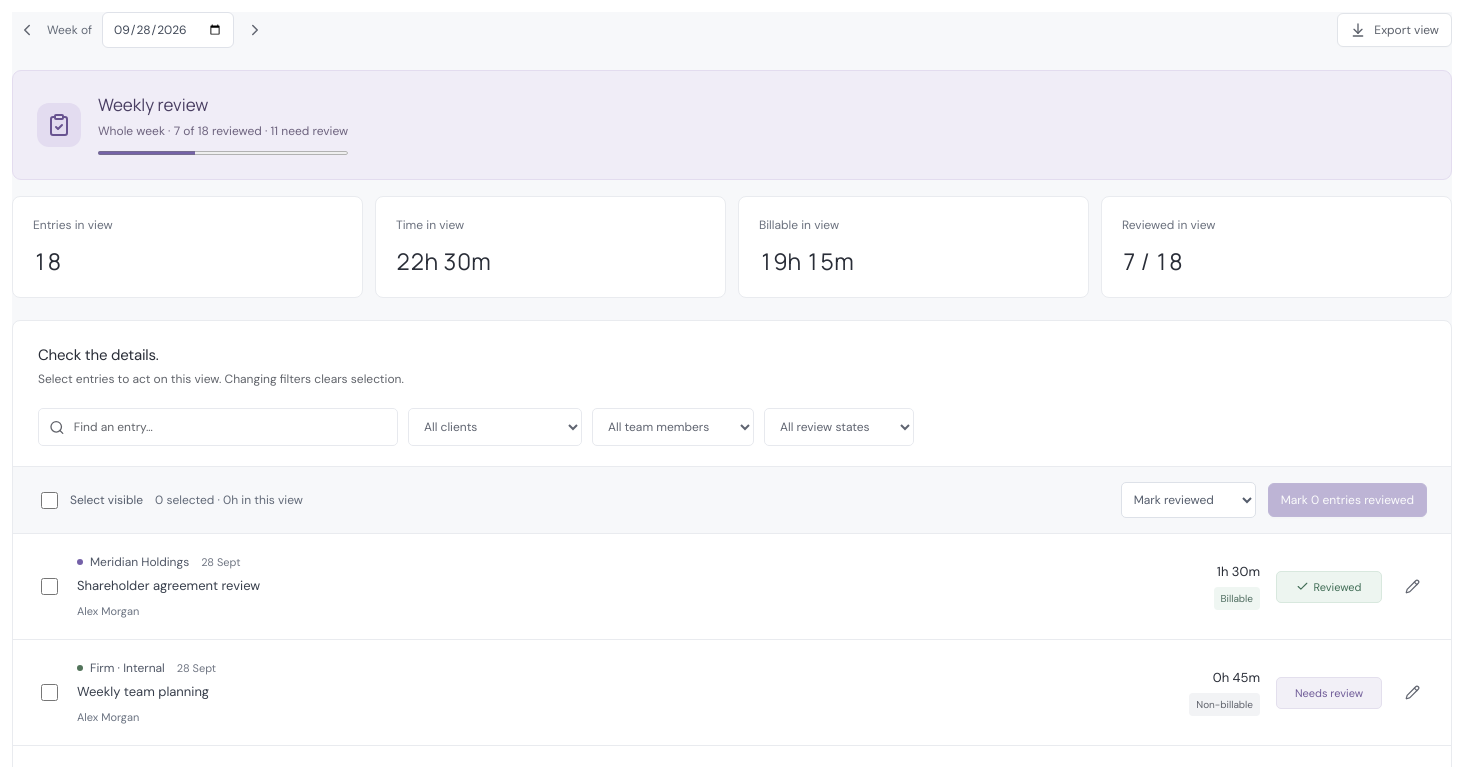
Test: weekly review view and action scope › clears selection when Review client changes
Click the checkbox named "Select visible entries".
click(50, 500)  # box left=41, top=492, right=58, bottom=508
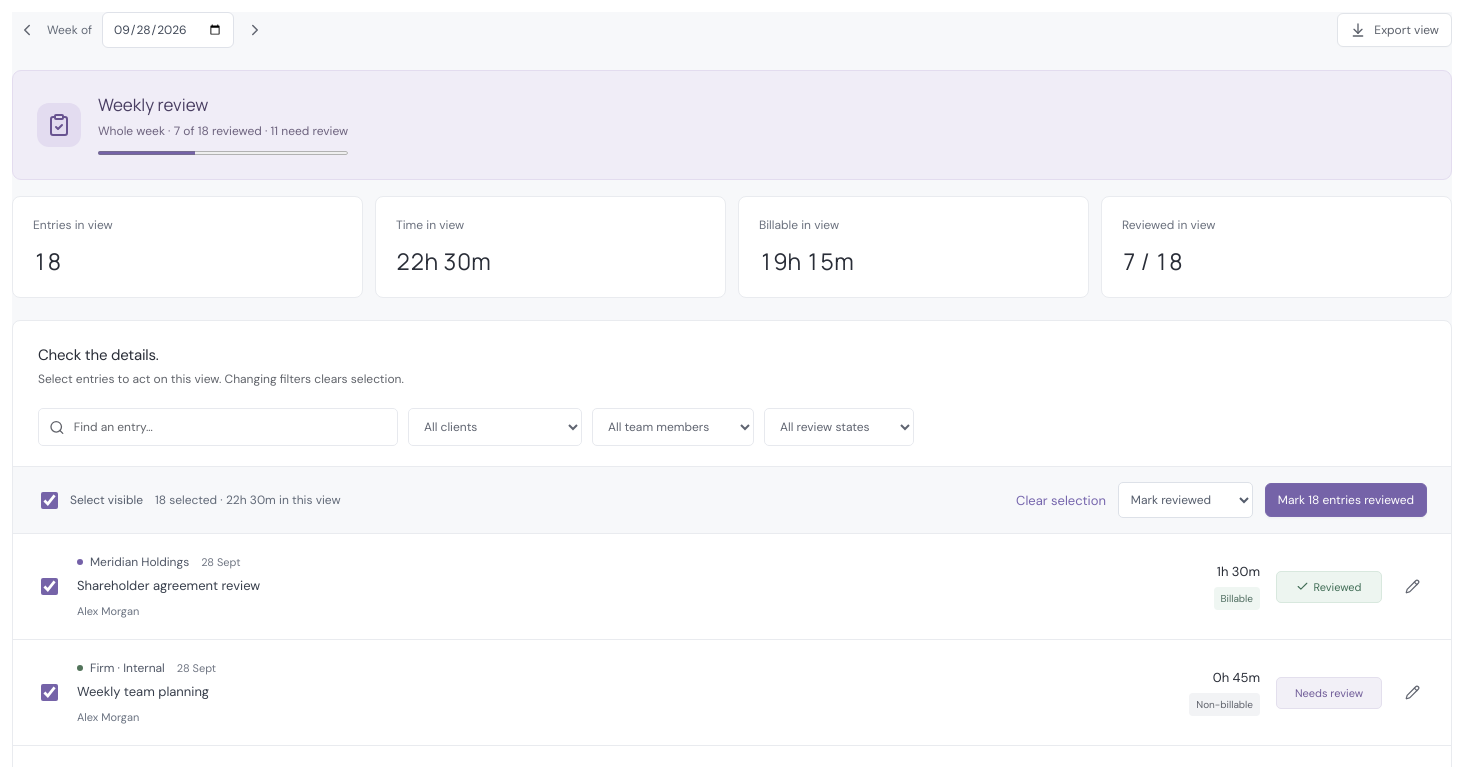
Select "Meridian Holdings" in the dropdown named "Review client" at (495, 427), box left=408, top=408, right=582, bottom=446
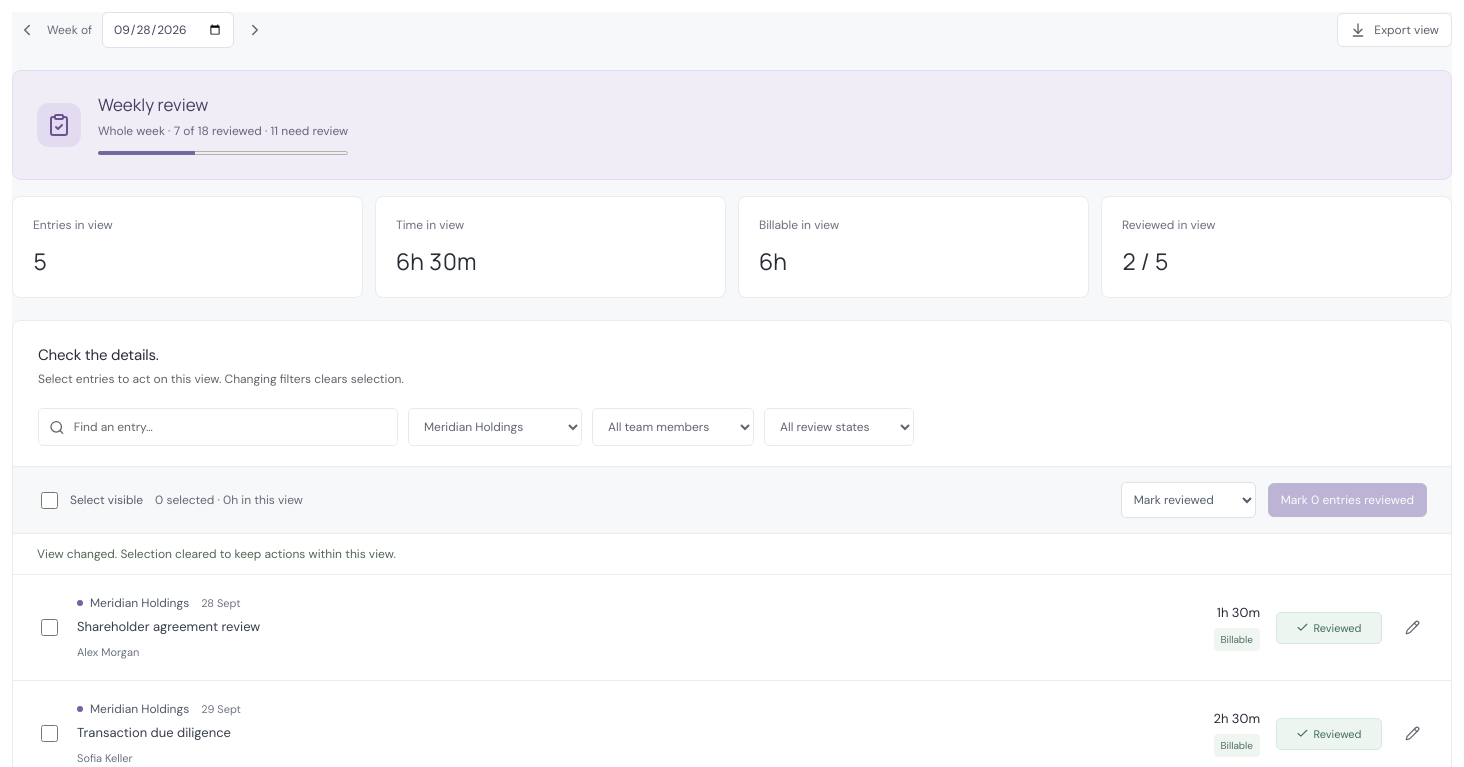
Expected: the button "Mark 0 entries reviewed" is disabled, left=1268, top=483, right=1427, bottom=517
Expected: the text "View changed. Selection cleared" is shown, left=37, top=546, right=396, bottom=562
